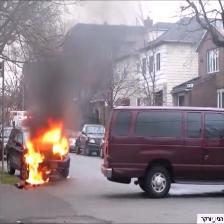fire: (25, 128, 69, 188)
smoke: (34, 42, 108, 119)
